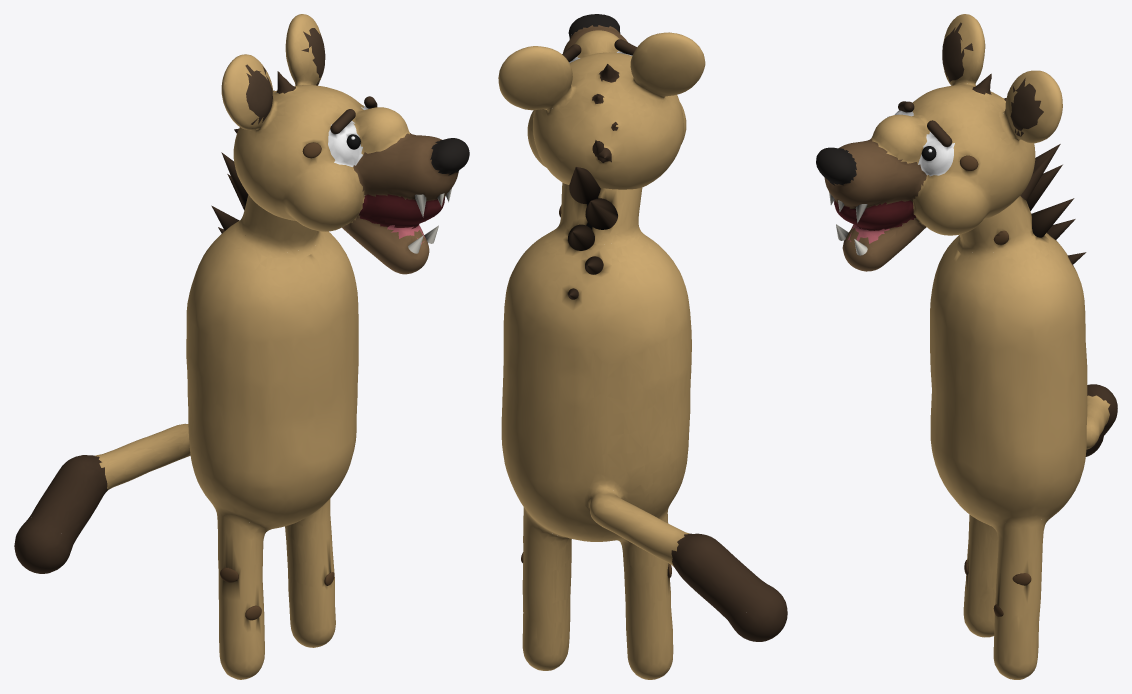
Rendered from jag-har-tappat-min-planbok.glb.
3 renders of one model, left to right at view 1: azimuth 30°, elevation 25°; view 2: azimuth 150°, elevation 25°; view 3: azimuth 270°, elevation 25°, orthographic. The views are drawn at different scales.
Visible parts, largest first — view 1: hiena__r0, cabeca__r0; view 2: hiena__r0, cabeca__r0, hiena__r7, hiena__r8, hiena__r9; view 3: hiena__r0, cabeca__r0, hiena__r9, hiena__r7, hiena__r8.
Part boxes in pixels (x1,y1,x2,y2): hiena__r0: (14,195,358,679); cabeca__r0: (221,14,469,274); hiena__r0: (501,140,787,679); cabeca__r0: (498,14,705,189); hiena__r7: (569,167,600,203); hiena__r8: (585,198,617,229); hiena__r9: (568,224,594,250); hiena__r0: (930,196,1117,679); cabeca__r0: (816,14,1062,271); hiena__r9: (1031,198,1074,237); hiena__r7: (1020,144,1060,200); hiena__r8: (1026,164,1062,210).
Bounding box in the file's own units: 1.02 × 1.87 × 0.8297.
